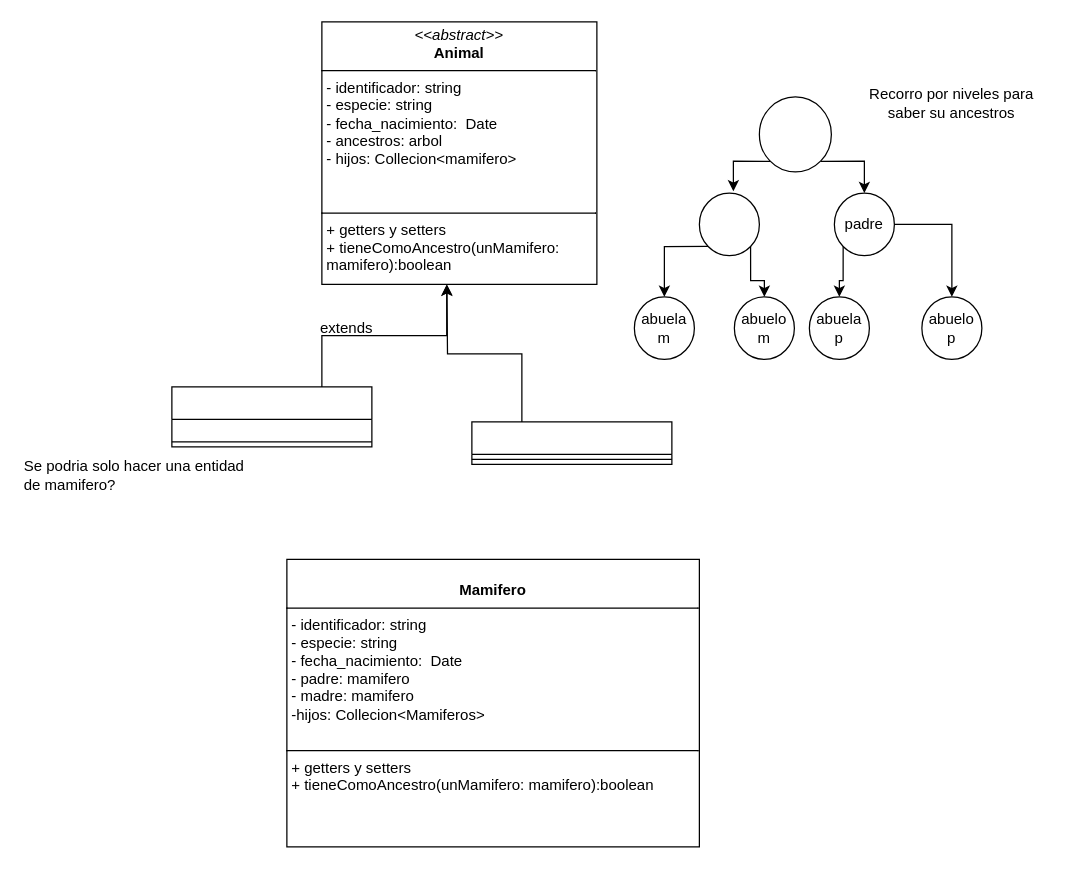
Some shapes in this 1066 by 869 pixel diagram are drawn without their labels. The shapes that lost their labels are listed below. From the top down, each one's box as (x1, y1, x2, y2) in pixels, then its label:
(758, 96, 831, 172): raiz (mamifero)
(698, 192, 759, 256): madre
(171, 386, 372, 447): Mamifero
(471, 421, 672, 464): Oviparo
